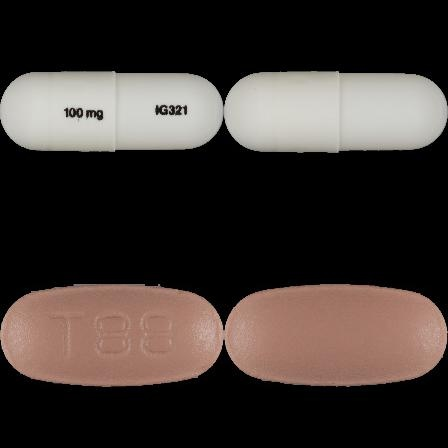35356-709: (0, 0, 224, 224)
